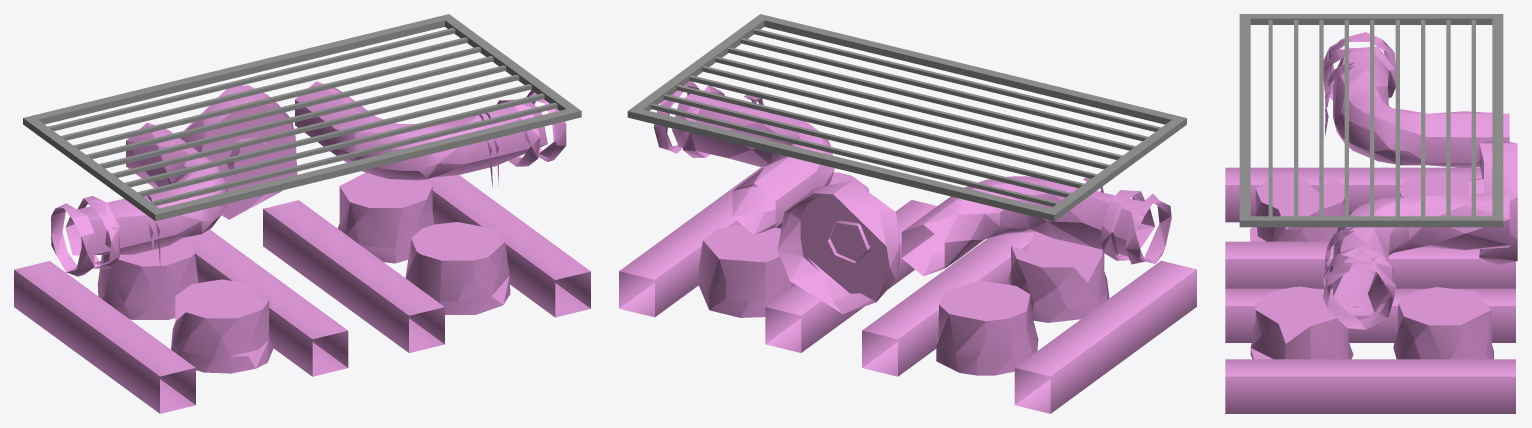
File: IceMachine_LOD1.fbx
3 renders of one model, left to right at view 1: azimuth 30°, elevation 25°; view 2: azimuth 150°, elevation 25°; view 3: azimuth 270°, elevation 25°, orthographic.
Parts seen in each view (by area): view 1: IceMachine004, IceMachine1_002; view 2: IceMachine004, IceMachine1_002; view 3: IceMachine004, IceMachine1_002.
Boxes of the visible parts, x1,y1,x2,y2 form: IceMachine004: (14,81,590,413); IceMachine1_002: (23,14,581,221); IceMachine004: (619,81,1196,413); IceMachine1_002: (627,14,1186,221); IceMachine004: (1225,32,1517,413); IceMachine1_002: (1239,14,1503,227).
Size of what is drawn, in the model's own units: 7.41 by 2.83 by 3.9.
